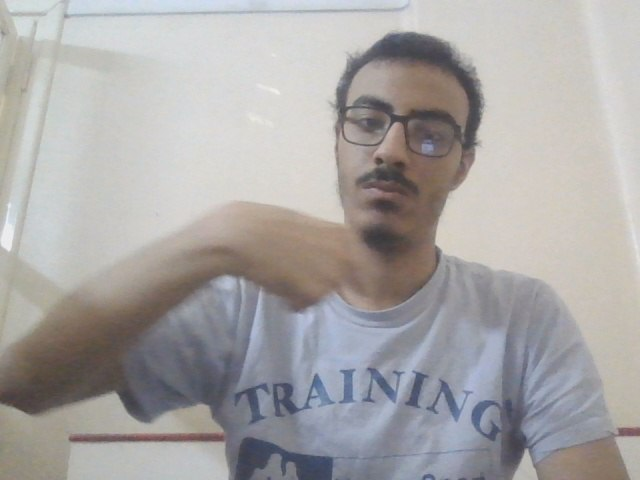Me: (200, 180, 358, 324)
